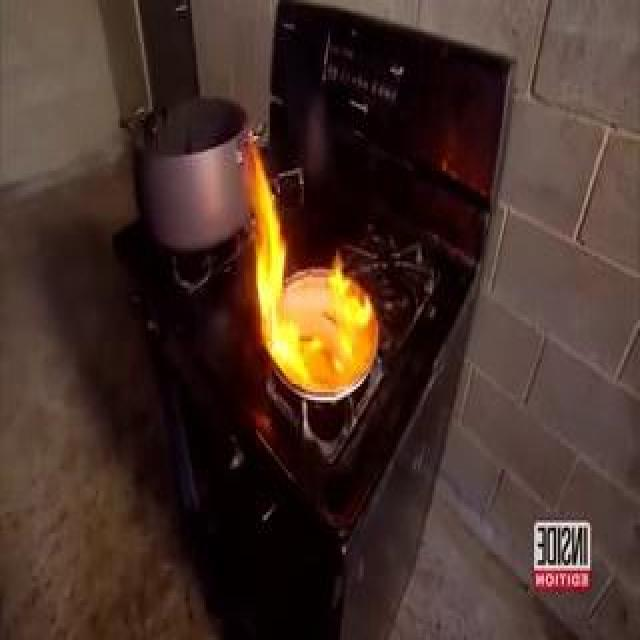Fire: (248, 212, 380, 404)
